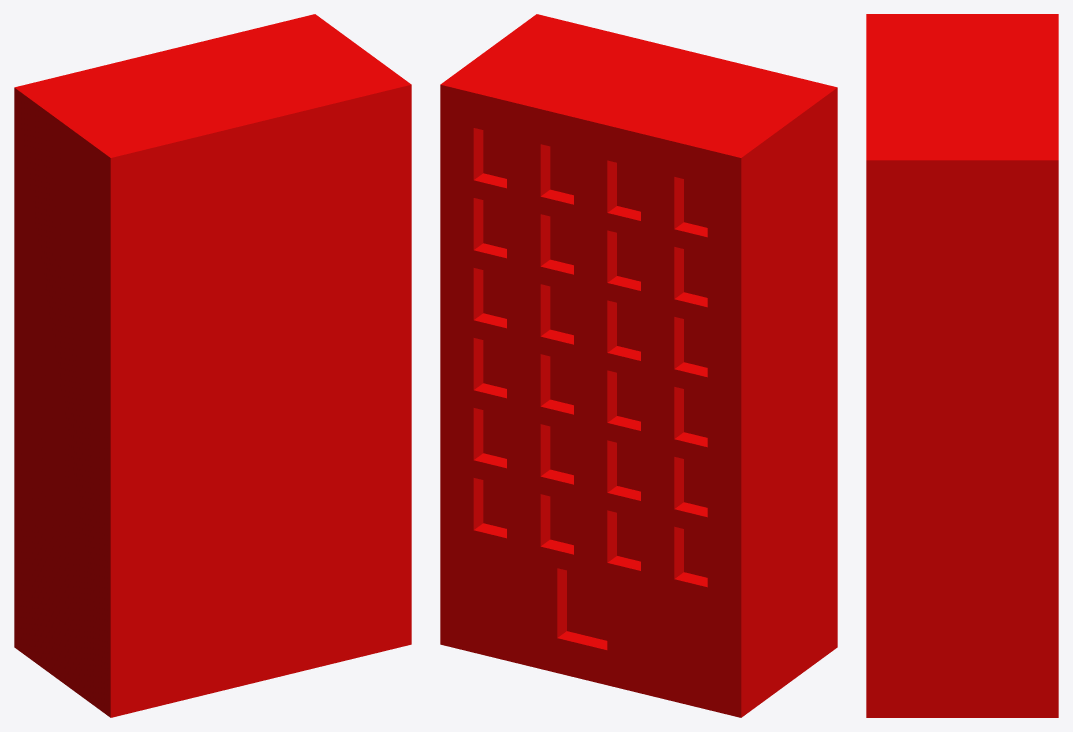
The model's file is entity21302.gltf.
3 renders of one model, left to right at view 1: azimuth 30°, elevation 25°; view 2: azimuth 150°, elevation 25°; view 3: azimuth 270°, elevation 25°, orthographic.
Visible parts, largest first — view 1: node_building1; view 2: node_building1; view 3: node_building1.
Boxes of the visible parts, bbox=[...] form: node_building1: bbox=[14, 14, 411, 717]; node_building1: bbox=[440, 14, 837, 717]; node_building1: bbox=[866, 14, 1058, 717].
Bounding box in the file's own units: 3.6 × 6.4 × 2.
